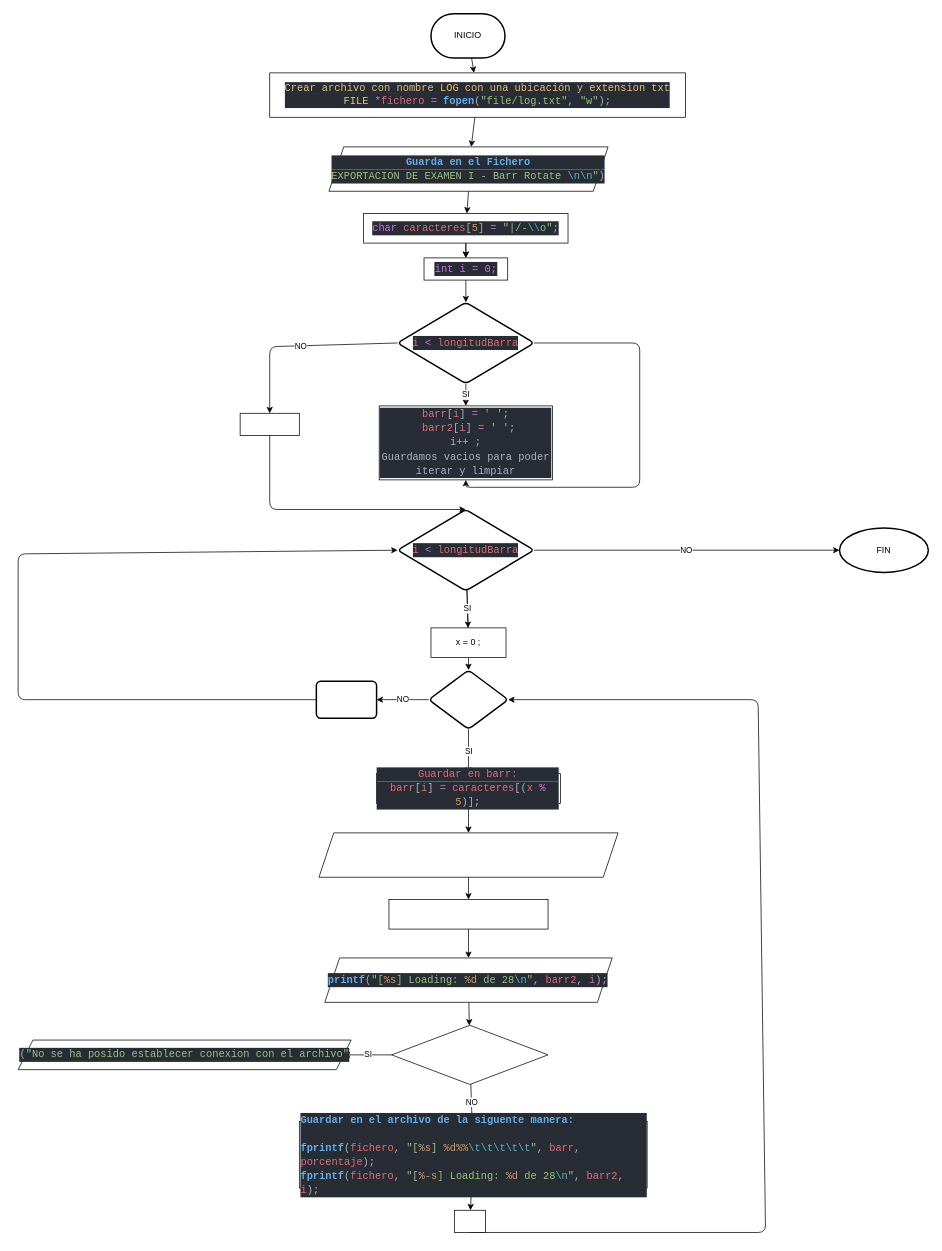
The diagram is 942 pixels wide and 1251 high, and some of its shapes have lost their labels. Here are the shapes that lost their labels. From the top down, the centre of each, then its label:
point (269, 424): i=0;
point (346, 699): i ++ ;
point (468, 699): x <= 4
point (468, 854): printf ( "[ %s ] %d%% \t\t\t " , barr , porcentaje ); usleep ( 1000 * delay );
point (468, 914): Guardar en barr 2 barr2 [ i ] = correo [ i ];
point (469, 1054): ( fichero ) == NULL
point (469, 1221): x ++ ;
